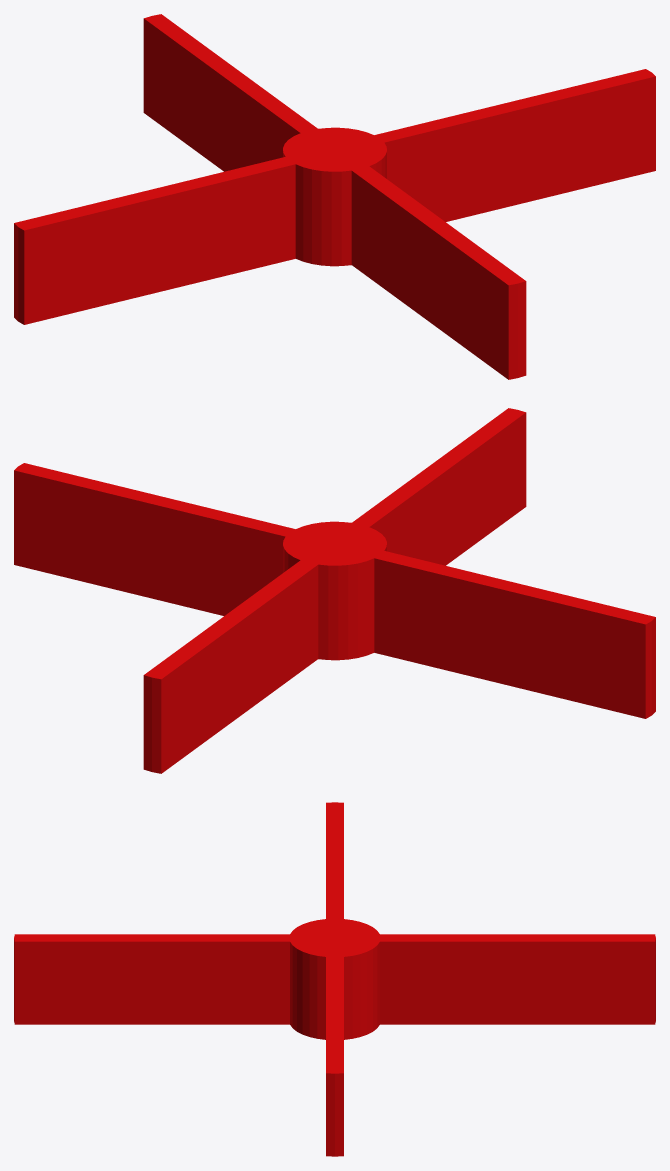
The model's file is TableFan.glb.
The picture shows the model from 3 angles, top to bottom: view 1: azimuth 30°, elevation 25°; view 2: azimuth 150°, elevation 25°; view 3: azimuth 270°, elevation 25°; orthographic projection. The views are drawn at different scales.
Parts seen in each view (by area): view 1: Cylinder; view 2: Cylinder; view 3: Cylinder.
Part boxes in pixels (<box>): Cylinder: <box>14,14,655,379</box>; Cylinder: <box>14,408,655,773</box>; Cylinder: <box>14,802,655,1156</box>.
Bounding box in the file's own units: 1.4 × 0.2 × 1.4.
